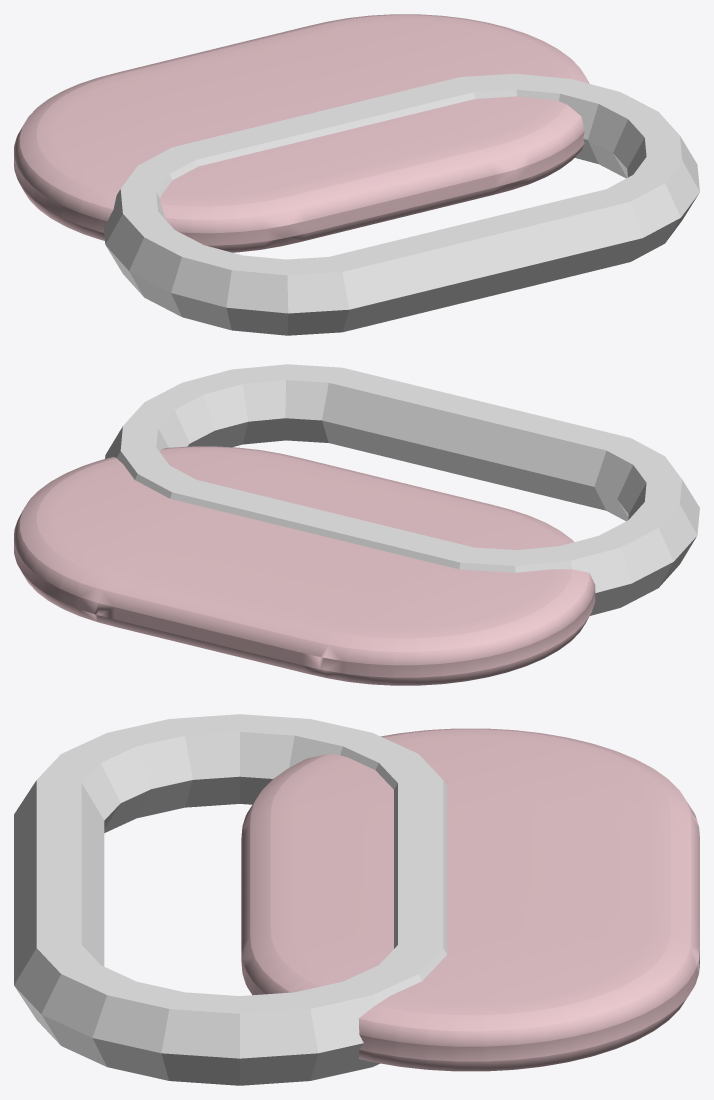
File: moreComplexSmooth.gltf
3 renders of one model, top to bottom at view 1: azimuth 30°, elevation 25°; view 2: azimuth 150°, elevation 25°; view 3: azimuth 270°, elevation 25°, orthographic. The views are drawn at different scales.
Parts seen in each view (by area): view 1: Torus.001, Torus; view 2: Torus.001, Torus; view 3: Torus.001, Torus.
Boxes of the visible parts, bbox=[...] form: Torus.001: bbox=[14, 14, 589, 252]; Torus: bbox=[103, 73, 699, 335]; Torus.001: bbox=[14, 446, 595, 685]; Torus: bbox=[105, 364, 699, 615]; Torus.001: bbox=[241, 728, 699, 1071]; Torus: bbox=[14, 714, 447, 1085].
Size of the model in its own units: 4.09 by 0.433 by 3.74.
